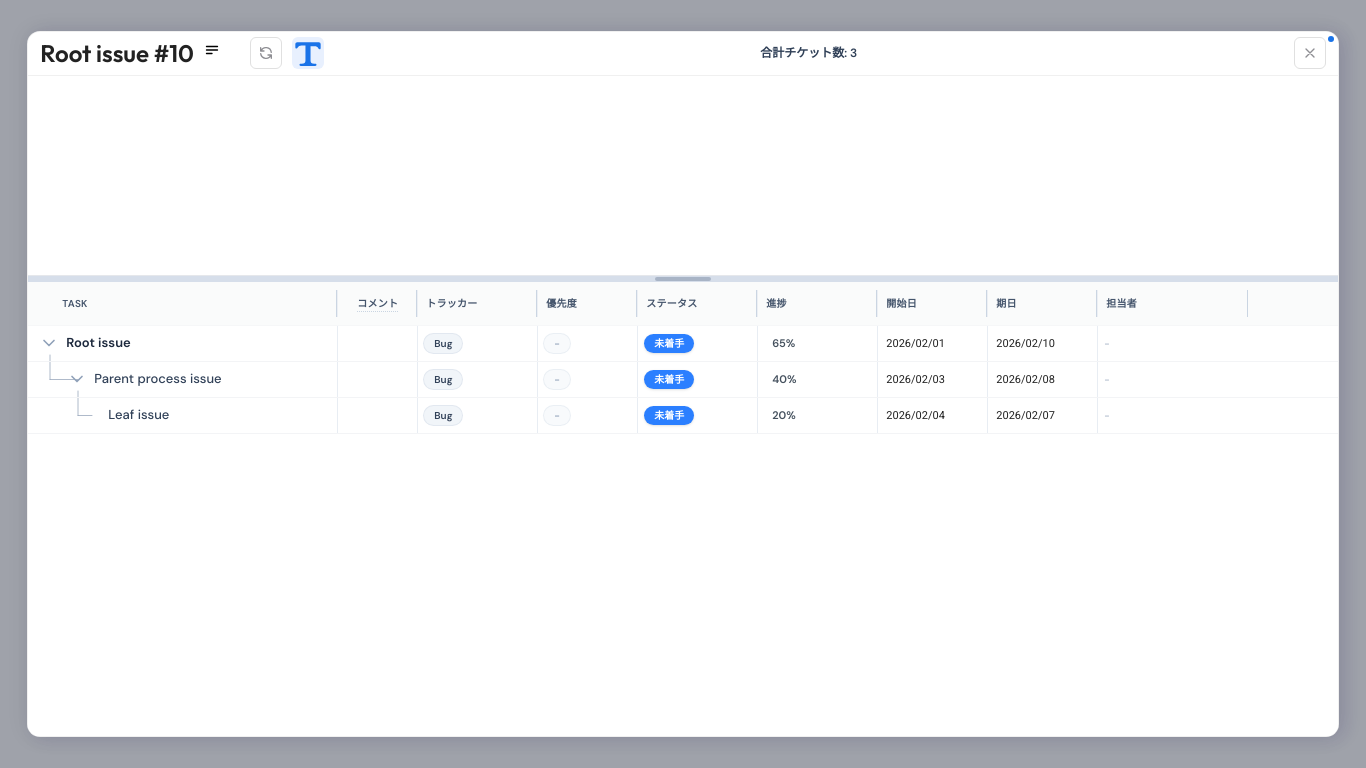
TaskDetailsDialog › applies parent process selection before opening child inline editor on double click
Double-click the element with test id "tracker-cell-12" at coordinates (478, 415), box [418,398,538,433]
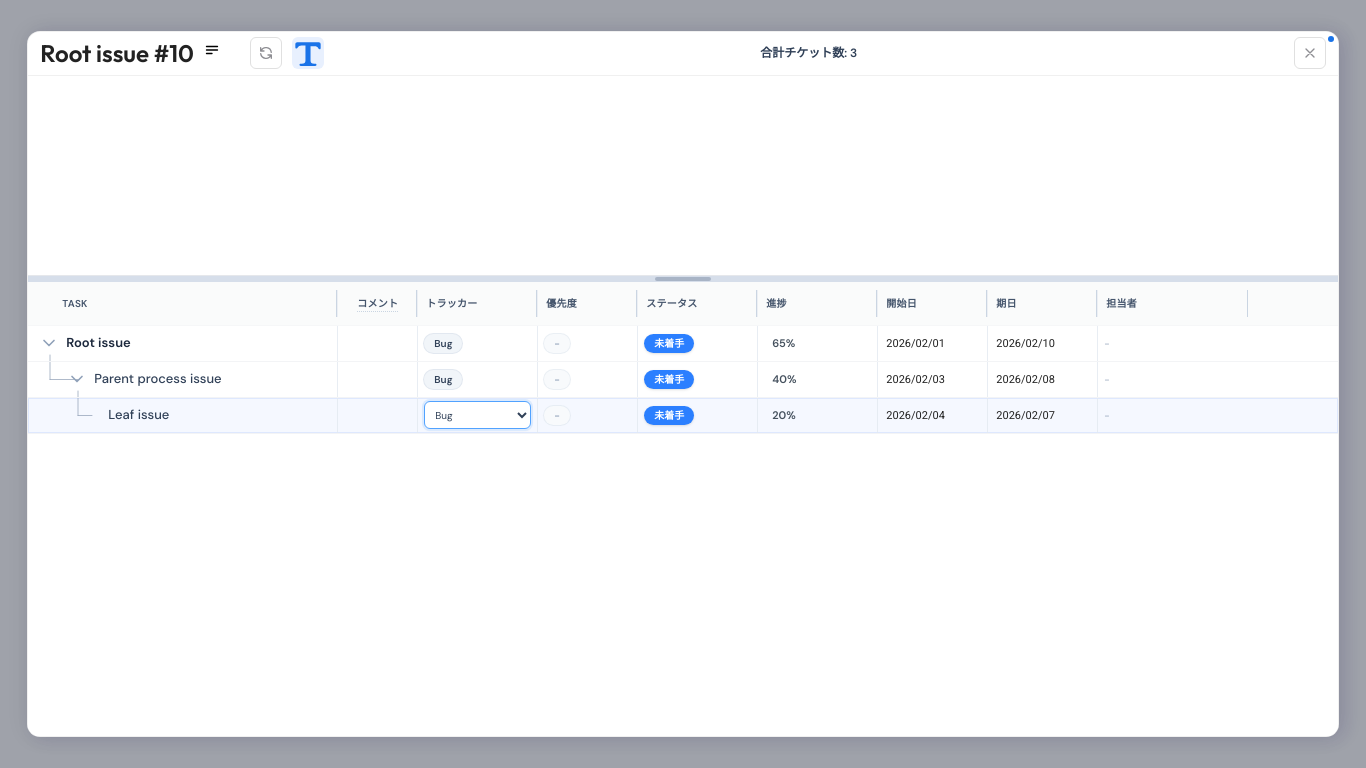
Expected: the dropdown with test id "tracker-select-12" is shown, [424,401,531,429]
